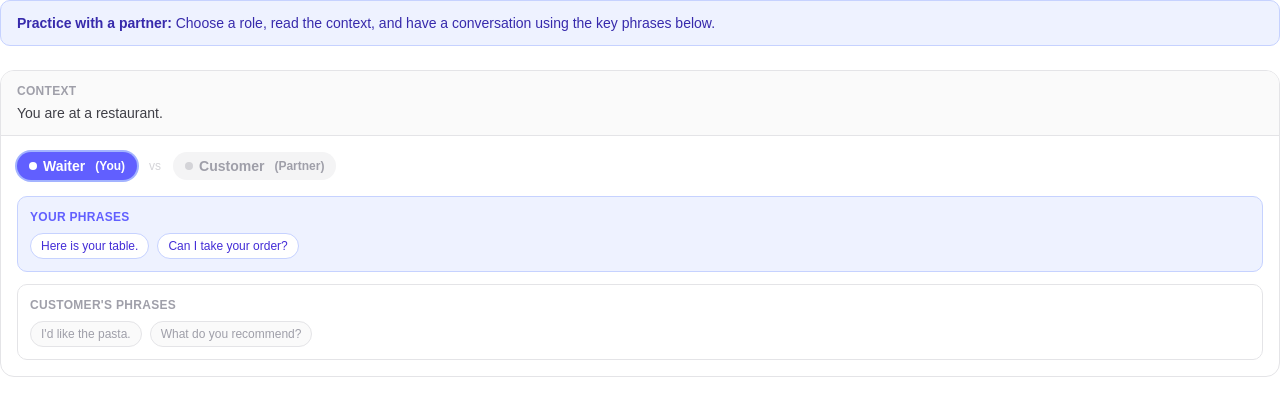
Test case: ConversationRenderer.Student — phrase checklist › toggles line-through and checkmark on phrase chip click
The width and height of the screenshot is (1280, 394).
# Select a role to show phrase chips
Click the button with test id "student-role-a-0" at (77, 166), box [17,152,137,180]
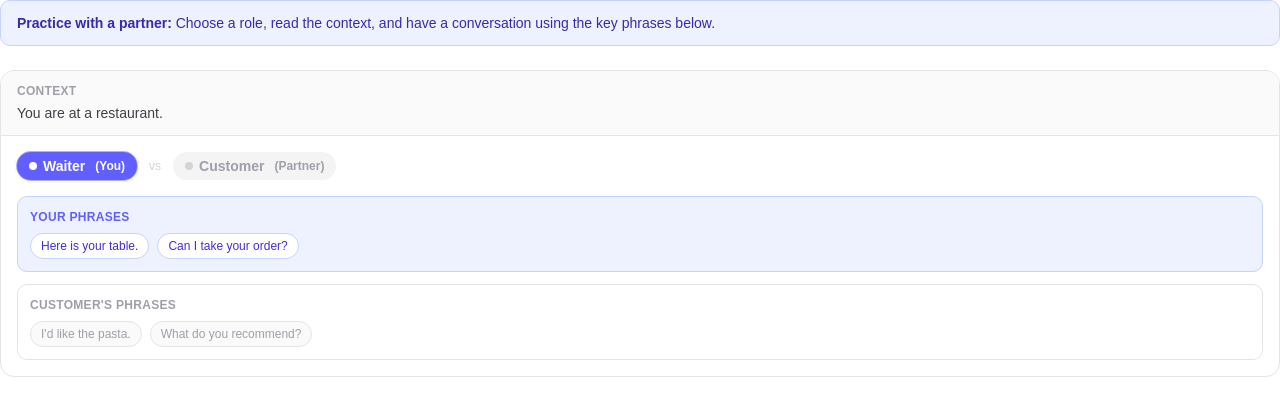
Click the button with test id "student-phrase-chip-0-0" at (90, 246), box [30,233,149,259]
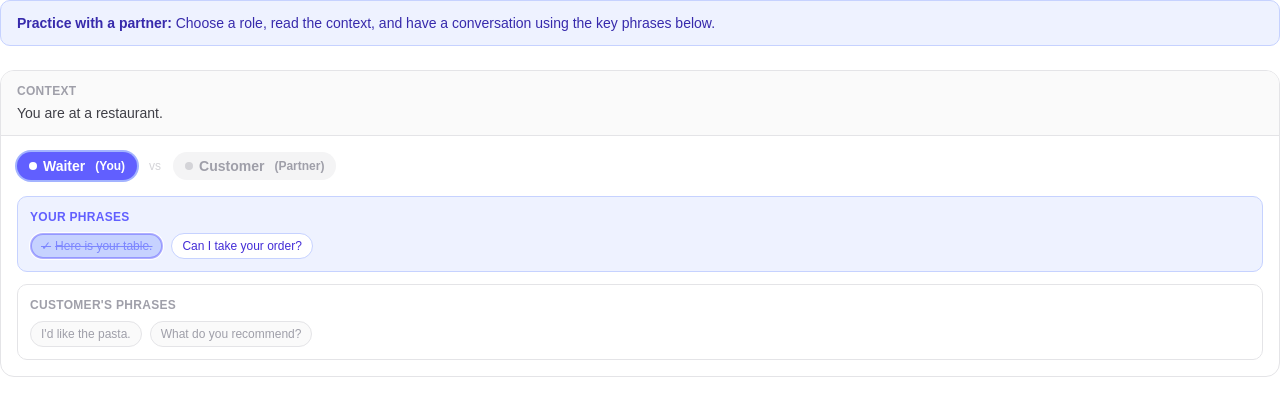
Check: the button with test id "student-phrase-chip-0-0" shows "✓"
Click the button with test id "student-phrase-chip-0-0" at (97, 246), box [30,233,164,259]
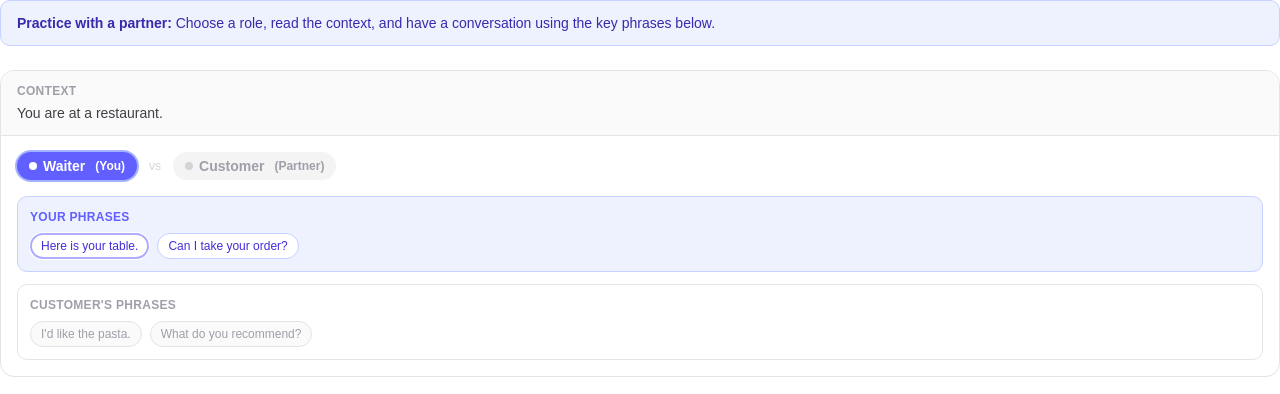
Check: the button with test id "student-phrase-chip-0-0" no longer shows "✓", box [30,233,149,259]
